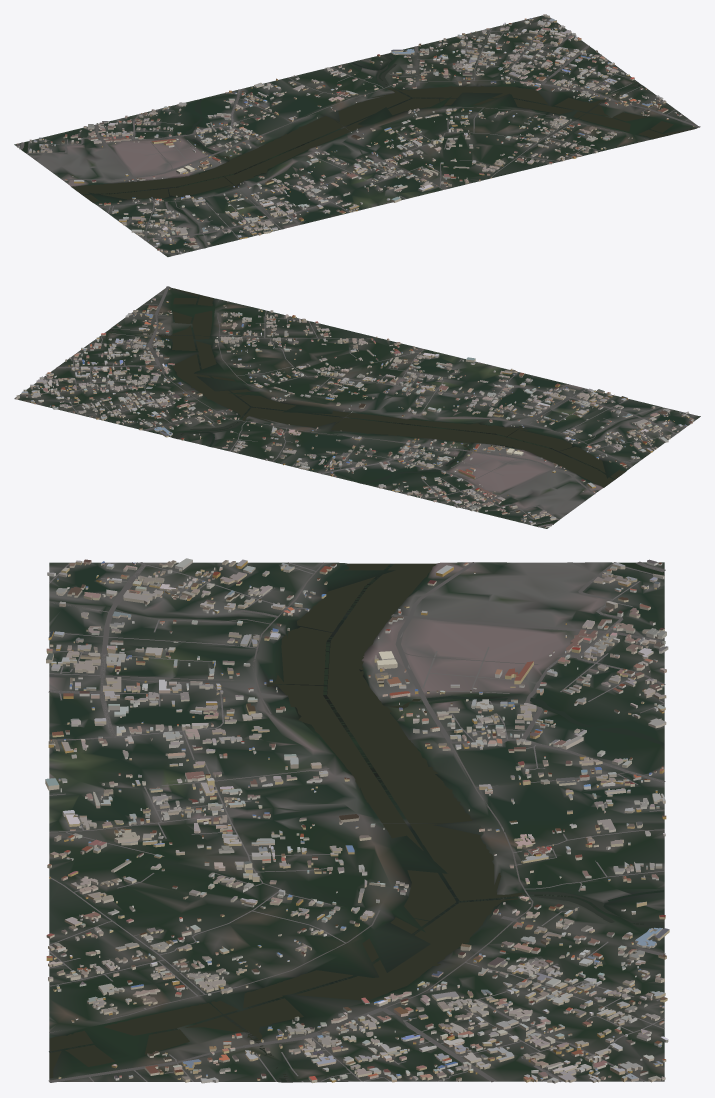
3 renders of one model, top to bottom at view 1: azimuth 30°, elevation 25°; view 2: azimuth 150°, elevation 25°; view 3: azimuth 270°, elevation 25°, orthographic. The views are drawn at different scales.
Visible parts, largest first — view 1: ground, buildings, water, roads; view 2: ground, buildings, water, roads; view 3: ground, buildings, water, roads.
Part boxes in pixels (<box>): ground: <box>14,15,697,256</box>; buildings: <box>16,14,694,254</box>; water: <box>21,53,694,202</box>; roads: <box>19,18,700,253</box>; ground: <box>14,287,700,528</box>; buildings: <box>15,288,693,527</box>; water: <box>109,288,625,526</box>; roads: <box>19,286,695,527</box>; ground: <box>49,562,664,1082</box>; buildings: <box>45,558,669,1083</box>; water: <box>49,562,663,1081</box>; roads: <box>48,561,665,1082</box>.
Bounding box in the file's own units: 2819 × 24.78 × 1422.
